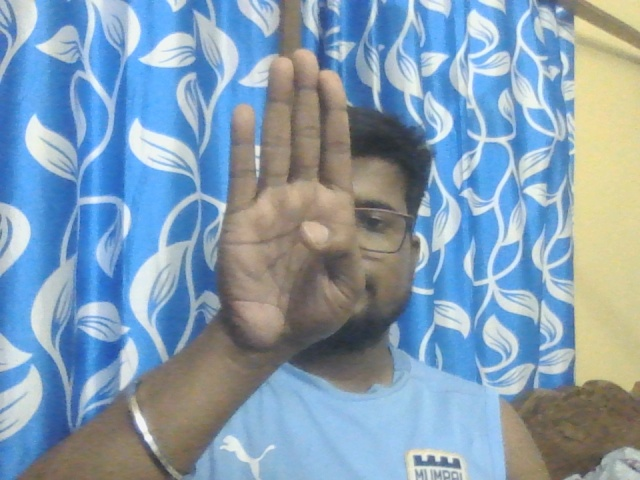B: (221, 49, 359, 353)
